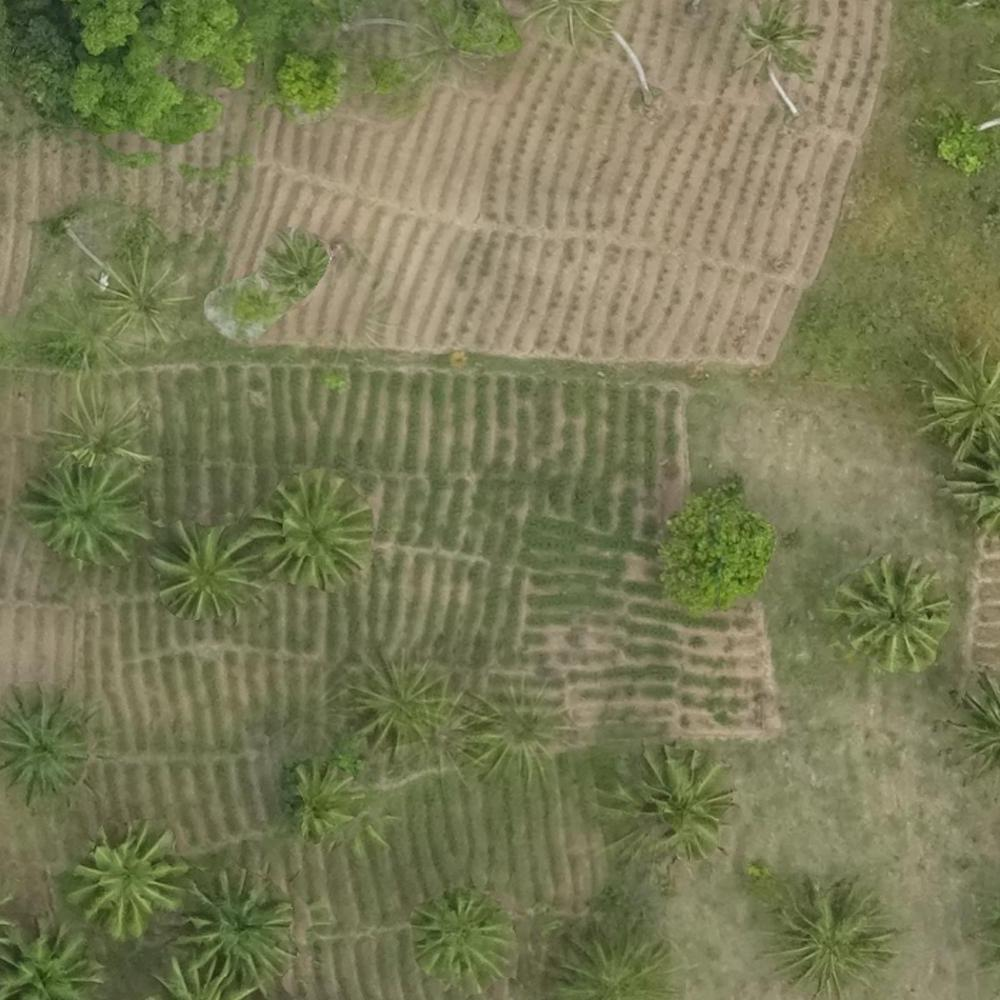Palm: (607, 749, 732, 869), (772, 877, 896, 993), (261, 478, 381, 591), (25, 459, 147, 563), (67, 827, 181, 936), (186, 872, 299, 980), (837, 559, 944, 668), (1, 688, 104, 801), (546, 915, 677, 999), (148, 521, 264, 615), (417, 889, 518, 991), (86, 251, 181, 345), (2, 914, 97, 1000), (281, 762, 370, 843), (262, 232, 332, 293)
